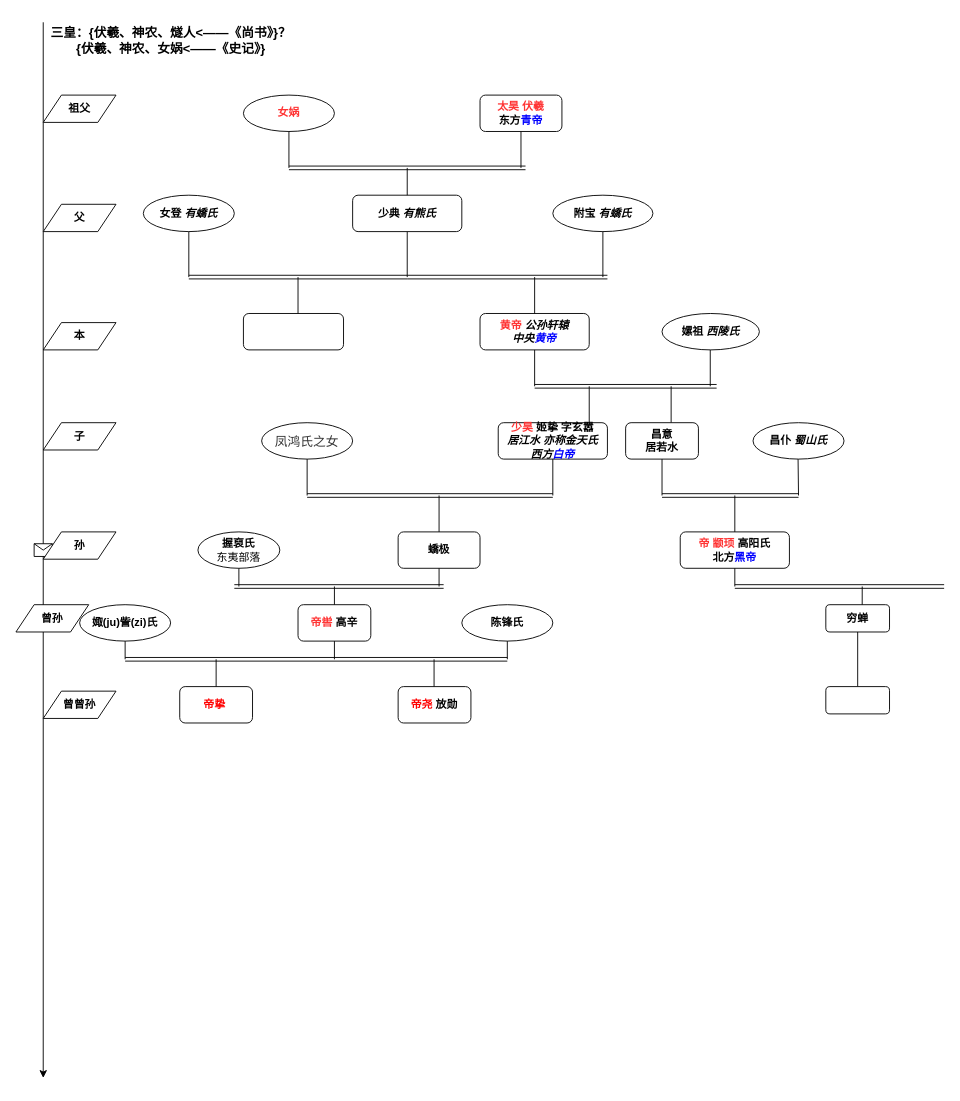
Some shapes in this 960 by 1101 pixel diagram are drawn without their labels. The shapes that lost their labels are listed below. From the top down, each one's centre as x and y in pixels, then its label:
the point at 293,331: 炎帝 神农氏 南方 赤帝
the point at 857,700: 敬康
